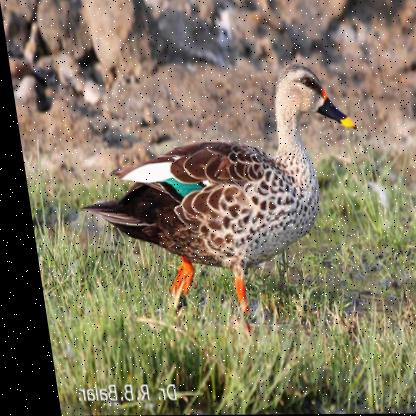Burung: (57, 65, 375, 321)
